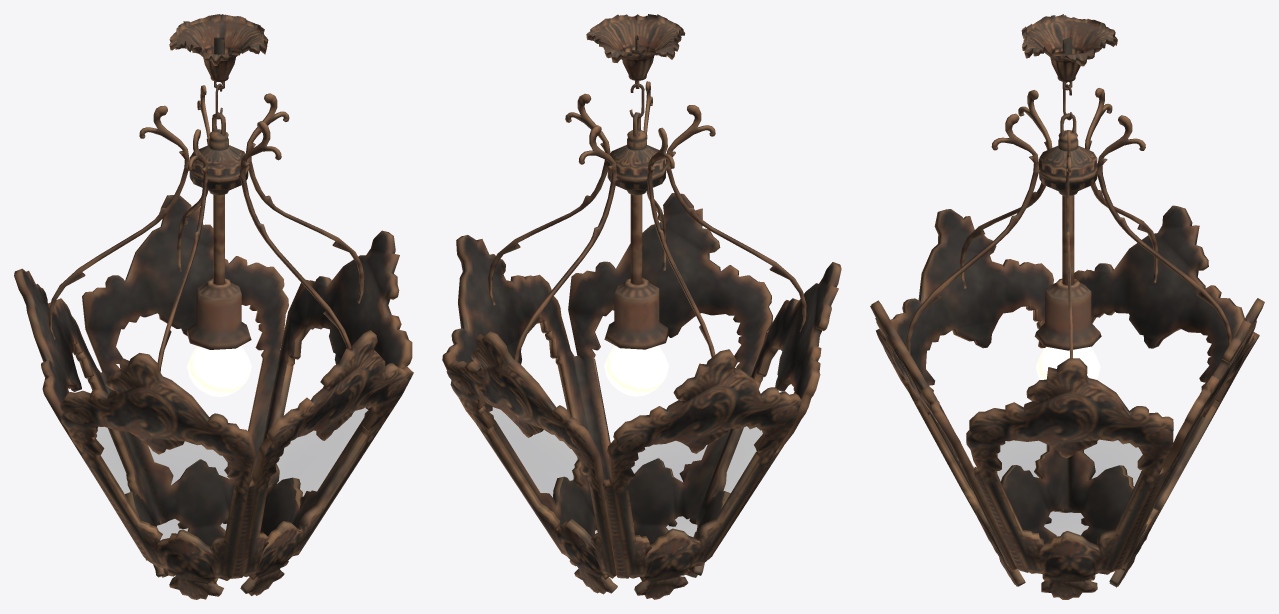
The model's file is lantern_chandelier_01.glb.
3 views of the same model, side by side, from view 1: azimuth 30°, elevation 25°; view 2: azimuth 150°, elevation 25°; view 3: azimuth 270°, elevation 25° (orthographic).
Parts seen in each view (by area): view 1: lantern_chandelier_01; view 2: lantern_chandelier_01; view 3: lantern_chandelier_01.
Boxes of the visible parts, left/top/right/bottom form: lantern_chandelier_01: left=14, top=14, right=413, bottom=599; lantern_chandelier_01: left=442, top=14, right=841, bottom=599; lantern_chandelier_01: left=870, top=14, right=1264, bottom=599.
Size of the model in its own units: 0.5792 by 0.8776 by 0.5746.
3 materials, 2 textured.
